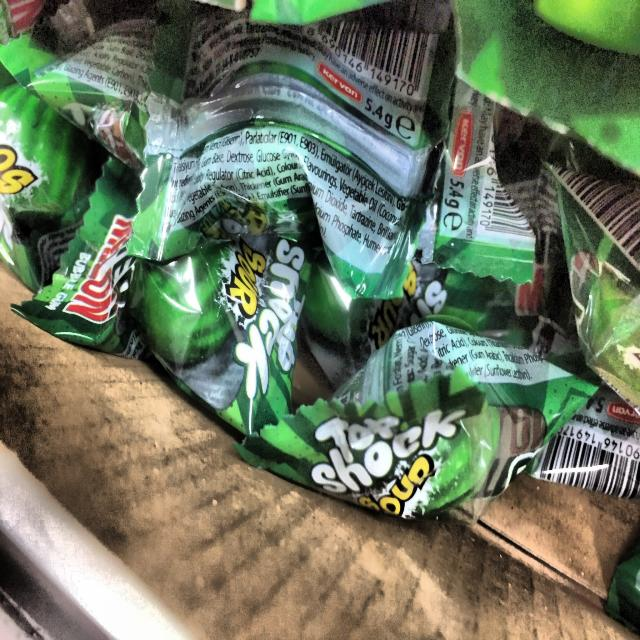Plastic: (168, 36, 431, 347), (80, 152, 310, 458), (288, 306, 573, 540)
